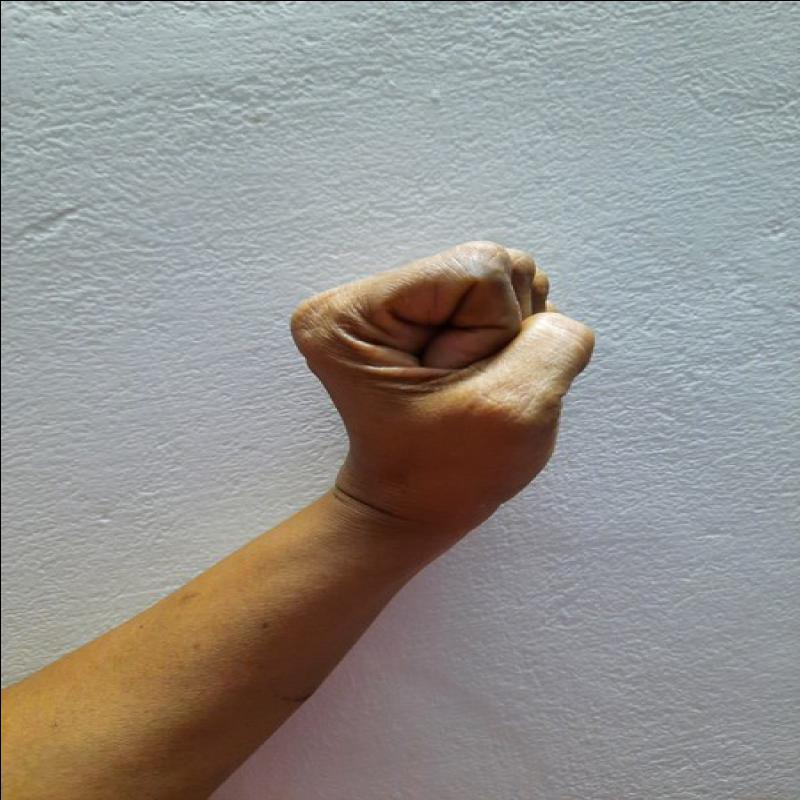Mushti: (278, 220, 609, 519)
